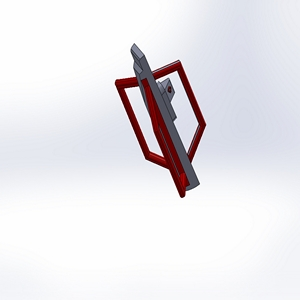submarine: (92, 38, 235, 208)
